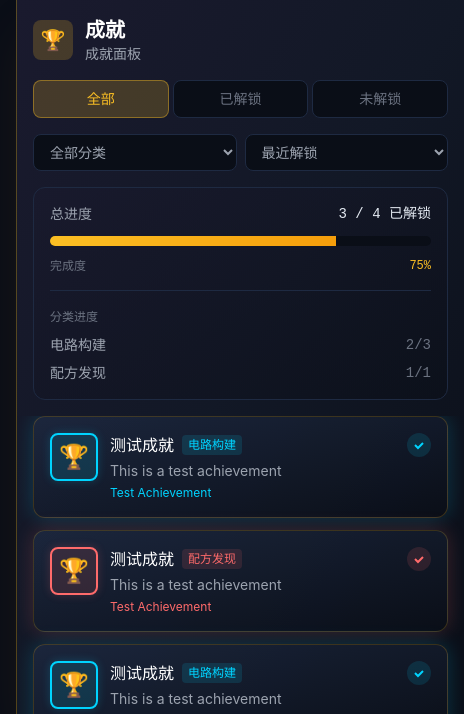
Test: AchievementPanel Component › AC-181-002: AchievementPanel filtering works › filters can be combined (tab + category)
Note: Click unlocked tab
Click the button with test id "achievement-tab-unlocked" at [241, 99], box top-left (173, 80), bottom-right (308, 118)
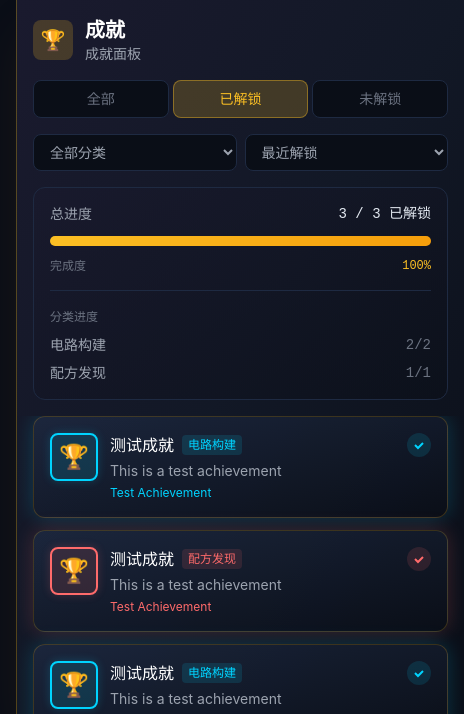
Note: Select circuit-building category
Select "电路构建" in the dropdown with test id "achievement-category-filter" at [135, 152], box top-left (33, 134), bottom-right (236, 171)
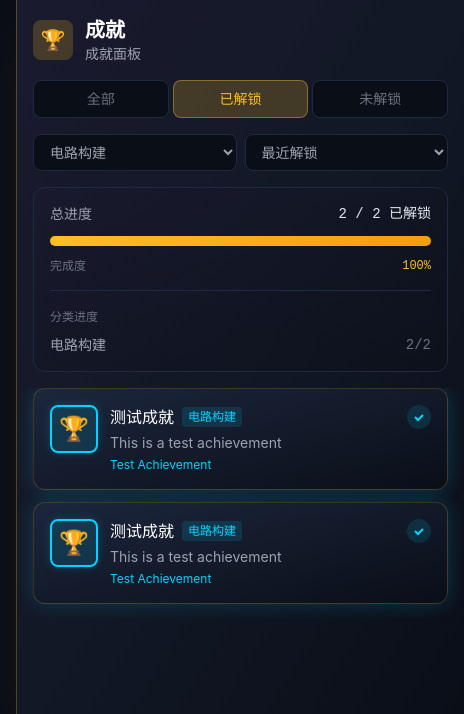
expect the element with test id "achievement-badge-a1" is shown: met, box top-left (33, 388), bottom-right (448, 490)
expect the element with test id "achievement-badge-a3" is gone: met
